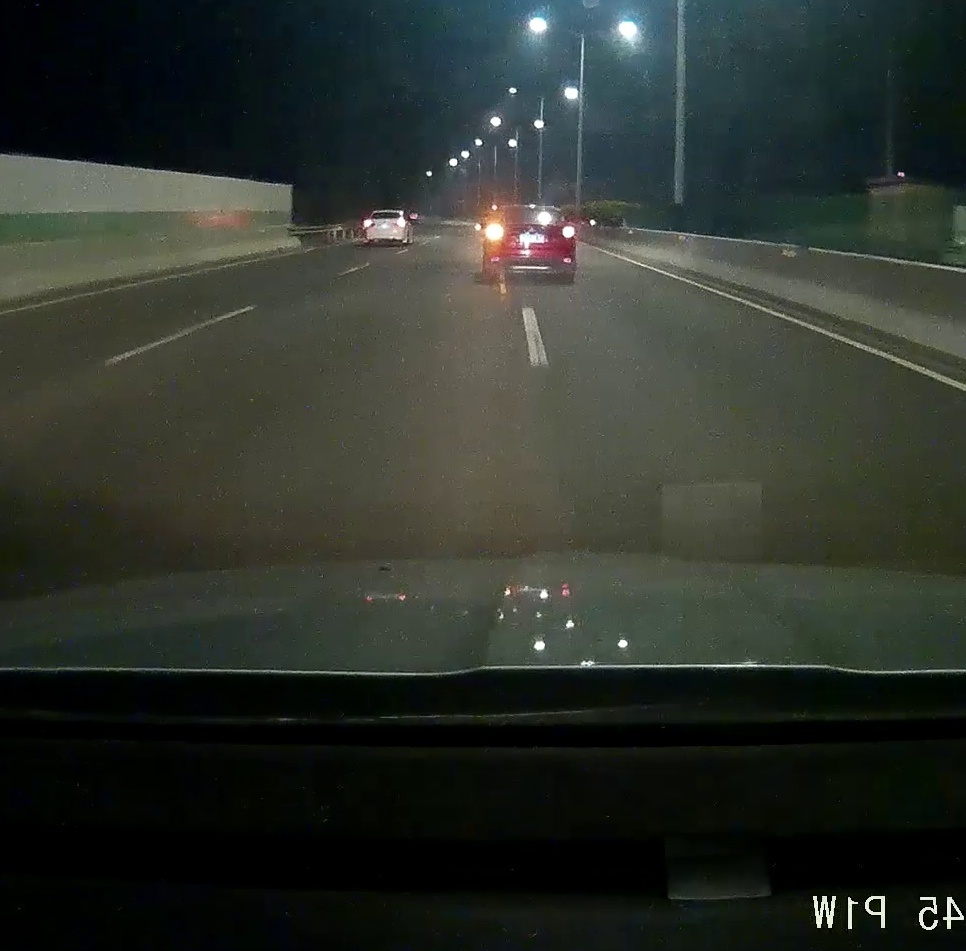L_light: (486, 227, 503, 238), (365, 220, 374, 226)
R_light: (562, 228, 576, 238), (397, 220, 406, 226)
T_light: (526, 208, 539, 212), (384, 212, 391, 215)
night-left: (484, 205, 577, 281)
night-no: (365, 210, 408, 245)
